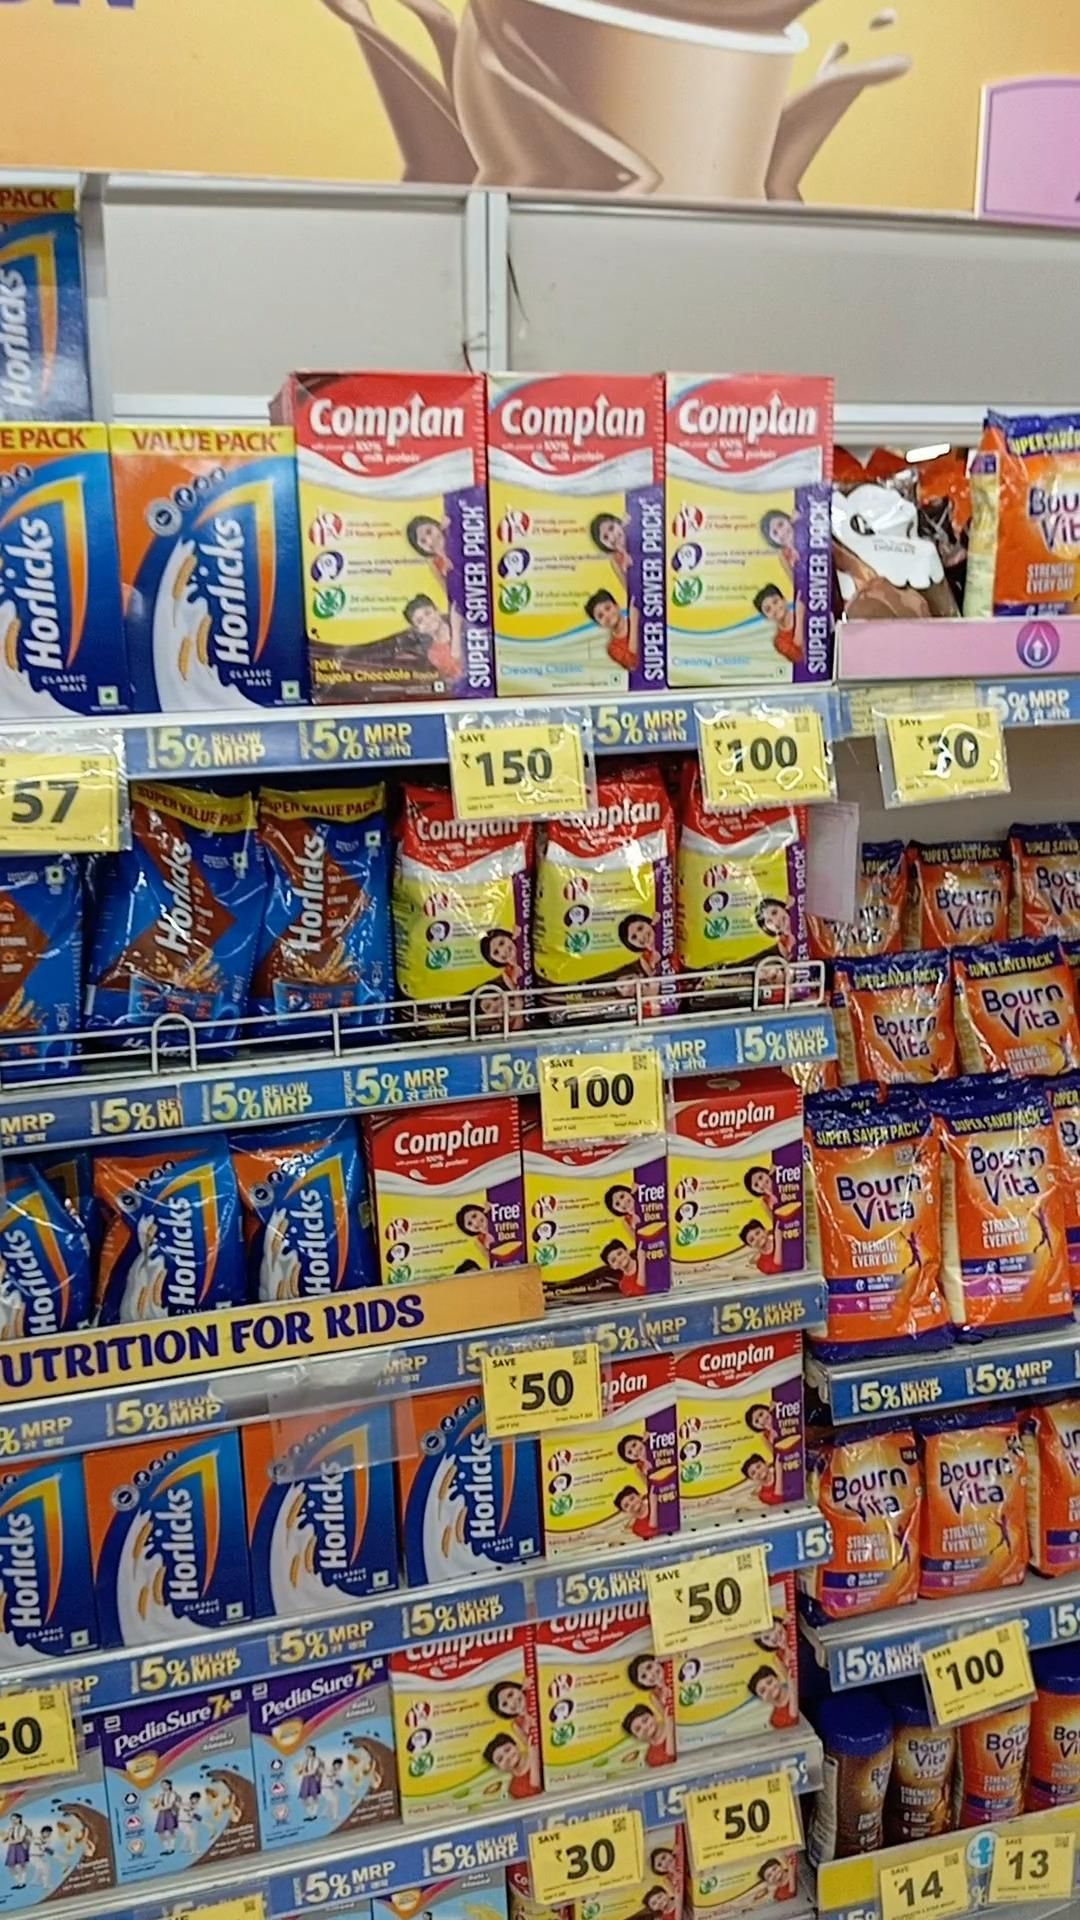BOURN_VITA_1_KG_POUCH: (815, 1106, 948, 1356), (953, 1098, 1067, 1338)
BOURN_VITA_500_G_POUCH: (820, 1411, 927, 1600), (935, 1400, 1033, 1584)
COMPLAN_CHOCOLATE_1_KG_PACK: (310, 369, 484, 700)
COMPLAN_CHOCOLATE_500_GMS_PACK: (375, 1102, 517, 1279), (527, 1122, 665, 1299)
COMPLAN_KESAR_BADAM_500_GMS_PACK: (537, 1364, 678, 1545), (673, 1087, 802, 1284), (678, 1335, 800, 1516)
COMPLAN_PISTA_BADAM_500_GMS_PACK: (397, 1643, 537, 1821), (537, 1613, 671, 1787)
COMPLAN_RC_POUCH_700_GMS_12: (392, 783, 537, 1040), (537, 769, 675, 1021), (680, 766, 816, 1002)
HORLICK_CHOCOLATE_750_G_POUCH: (91, 790, 253, 1063), (258, 785, 385, 1050)
HORLICK_CLASSIC_MALT_500_G_PACK: (251, 1406, 398, 1602), (104, 1439, 248, 1639), (400, 1390, 537, 1578)
HORLICK_CLASSIC_MALT_750_G_POUCH: (98, 1137, 231, 1320), (243, 1118, 367, 1298), (0, 1156, 95, 1335)
PEDIASURE_7_PLUS_CHOCOLATE_400_G_PACK: (113, 1688, 252, 1870), (257, 1663, 393, 1841)
